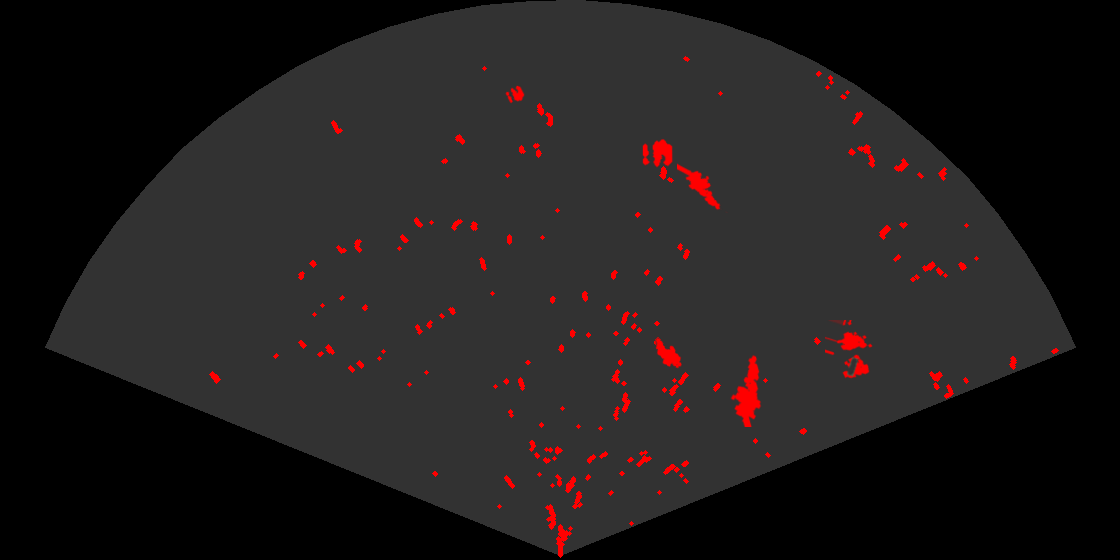AUV: (654, 336, 683, 370)
ball: (641, 137, 674, 169), (504, 84, 526, 105)
cage: (825, 320, 874, 380)
frogman: (677, 163, 729, 213), (729, 353, 763, 427)
